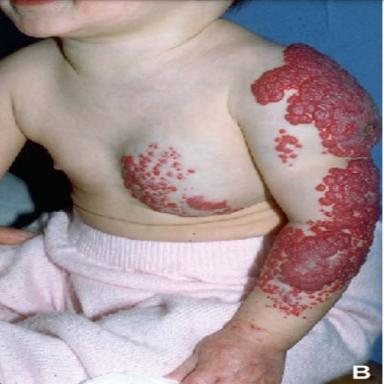Hemangiome: (252, 44, 380, 315), (274, 135, 303, 163), (186, 196, 230, 210), (279, 129, 286, 134)
